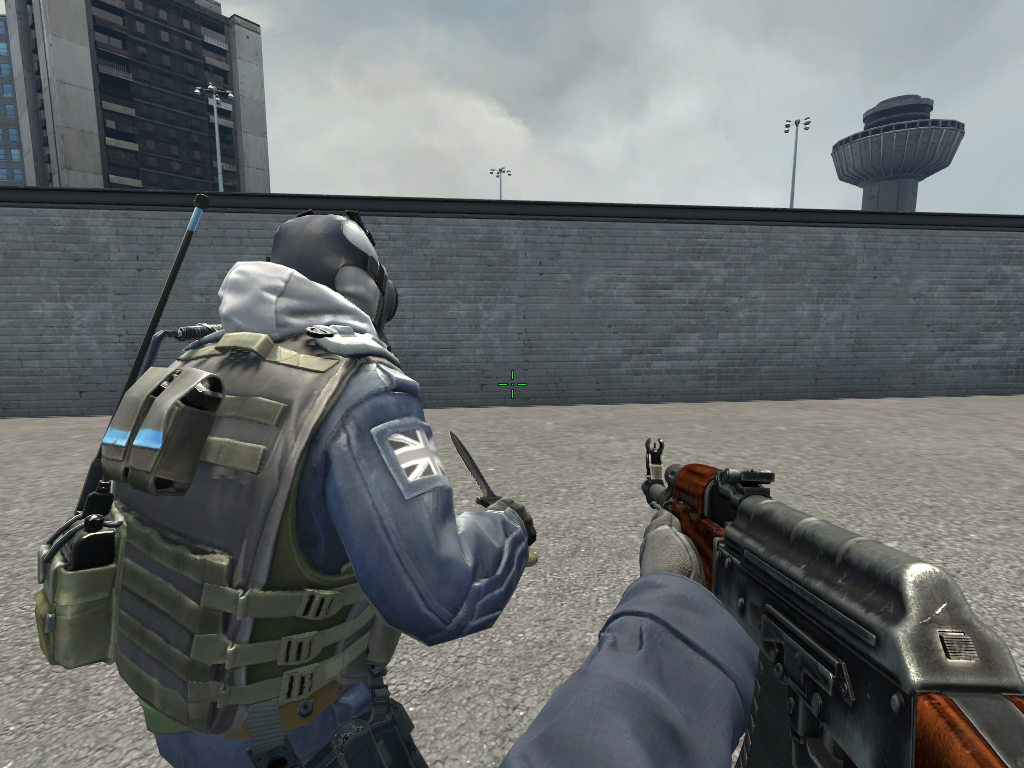ct head: (230, 207, 404, 360)
